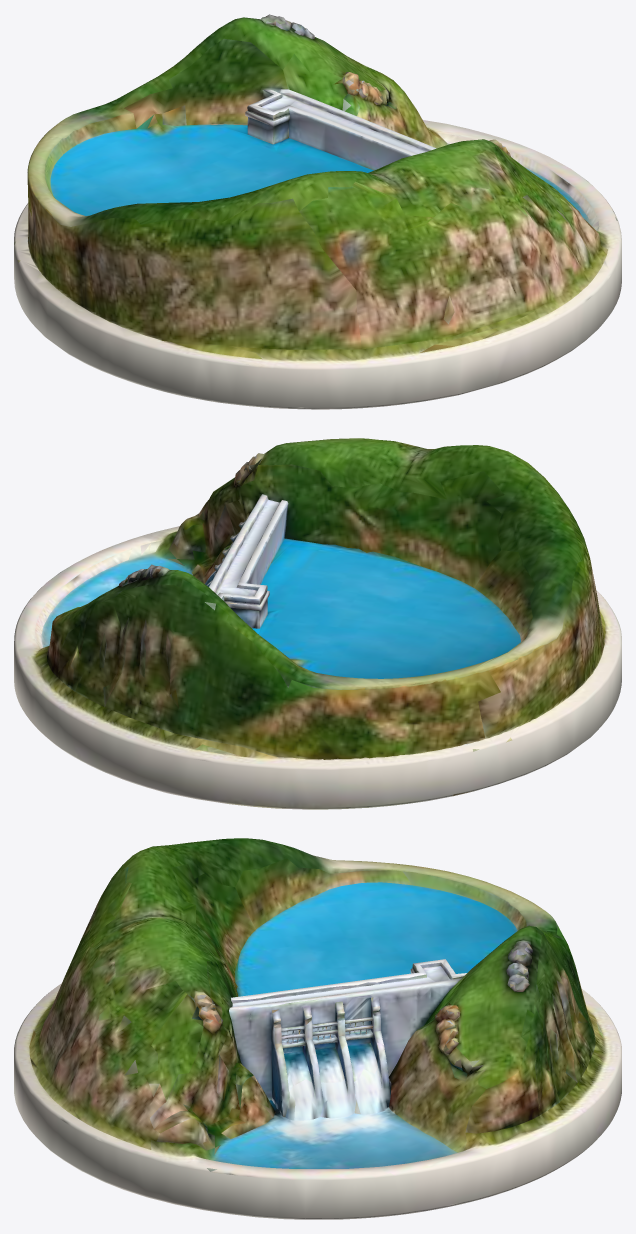
Rendered from hydro.glb.
3 renders of one model, top to bottom at view 1: azimuth 30°, elevation 25°; view 2: azimuth 150°, elevation 25°; view 3: azimuth 270°, elevation 25°, orthographic.
Visible parts, largest first — view 1: mesh; view 2: mesh; view 3: mesh.
Boxes of the visible parts, x1=… form: mesh: x1=14, y1=14, x2=621, y2=409; mesh: x1=14, y1=438, x2=621, y2=809; mesh: x1=14, y1=838, x2=621, y2=1219.
Size of the model in its own units: 0.9998 by 0.3491 by 1.
Materials: 1 (1 with a texture image).
